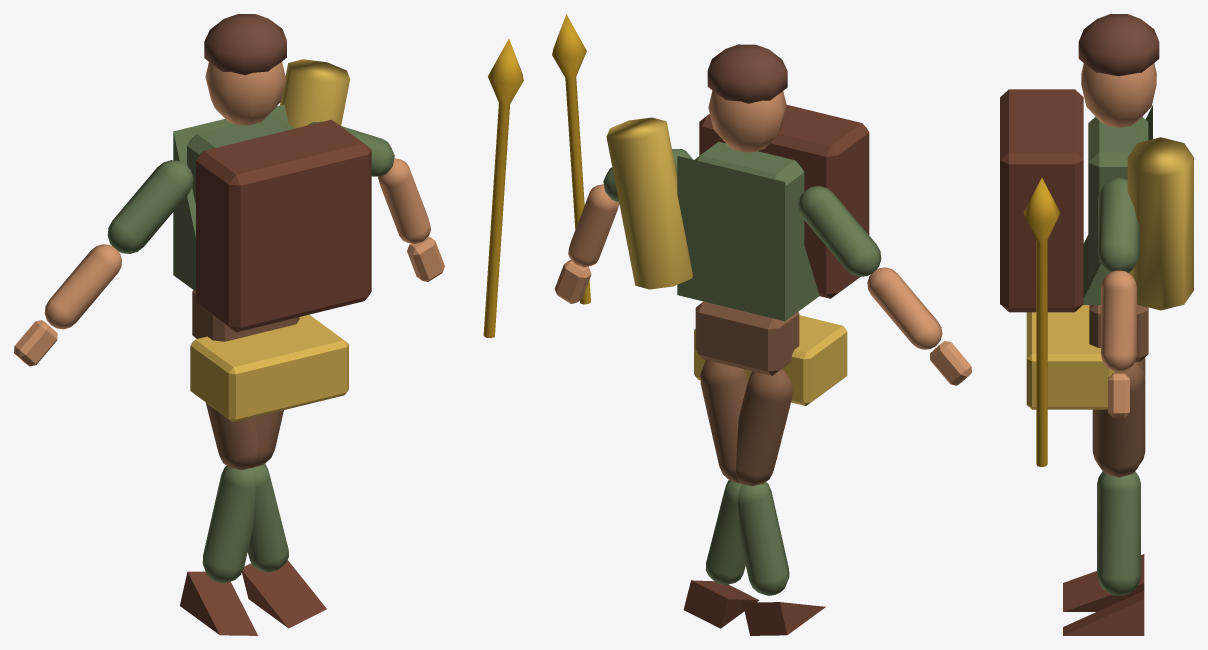
The model's file is adventurer.rustic.glb.
3 renders of one model, left to right at view 1: azimuth 30°, elevation 25°; view 2: azimuth 150°, elevation 25°; view 3: azimuth 270°, elevation 25°, orthographic. The views are drawn at different scales.
Parts seen in each view (by area): view 1: accessory.body, accessory.waist, shin.right, accessory.main-hand, upper-arm.left, hair, accessory.back, head, forearm.left, foot.left, foot.right, tunic (+9 smaller); view 2: tunic, accessory.back, accessory.body, pelvis, thigh.left, accessory.waist, shin.right, upper-arm.left, hair, thigh.right, head, forearm.left (+8 smaller); view 3: accessory.body, accessory.back, accessory.waist, shin.left, hair, accessory.main-hand, thigh.right, torso, head, forearm.right, upper-arm.right, foot.left (+4 smaller).
Part boxes in pixels (<box>): accessory.body: <box>196,119,371,332</box>; accessory.waist: <box>190,314,348,422</box>; shin.right: <box>202,466,255,583</box>; accessory.main-hand: <box>483,39,523,338</box>; upper-arm.left: <box>107,160,193,253</box>; hair: <box>204,14,286,75</box>; accessory.back: <box>280,59,350,128</box>; head: <box>205,62,286,125</box>; forearm.left: <box>44,244,121,329</box>; foot.left: <box>242,560,326,628</box>; foot.right: <box>180,571,257,635</box>; tunic: <box>173,104,288,291</box>; tunic: <box>677,156,819,321</box>; accessory.back: <box>606,117,692,289</box>; accessory.body: <box>699,105,869,298</box>; pelvis: <box>695,301,799,375</box>; thigh.left: <box>736,369,792,486</box>; accessory.waist: <box>694,315,847,405</box>; shin.right: <box>738,482,789,595</box>; upper-arm.left: <box>798,186,881,276</box>; hair: <box>707,44,787,103</box>; thigh.right: <box>700,360,747,483</box>; head: <box>708,90,786,152</box>; forearm.left: <box>867,267,942,349</box>; accessory.body: <box>1000,89,1083,312</box>; accessory.back: <box>1127,137,1193,310</box>; accessory.waist: <box>1026,305,1114,409</box>; shin.left: <box>1097,472,1140,595</box>; hair: <box>1078,14,1159,76</box>; accessory.main-hand: <box>1023,178,1060,466</box>; thigh.right: <box>1092,362,1145,477</box>; torso: <box>1088,117,1148,278</box>; head: <box>1081,63,1156,127</box>; forearm.right: <box>1101,270,1136,371</box>; upper-arm.right: <box>1098,178,1139,272</box>; foot.left: <box>1063,590,1144,635</box>.
Size of the model in its own units: 2.48 by 3.01 by 0.88.
